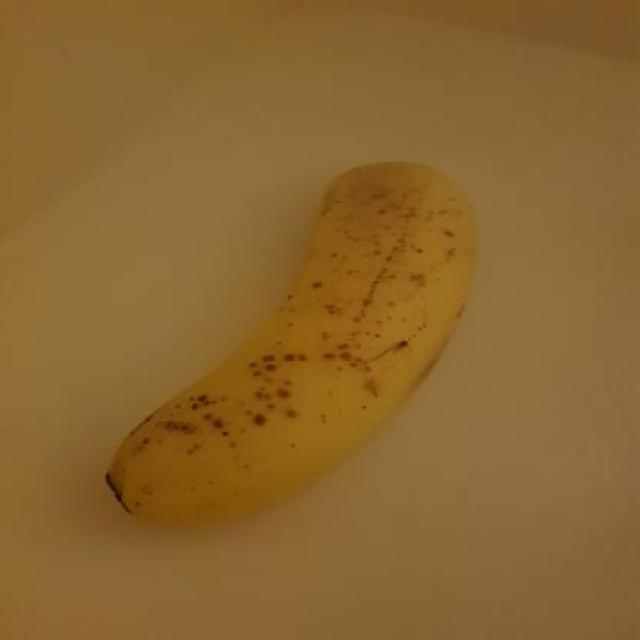Banana: (91, 147, 476, 544)
